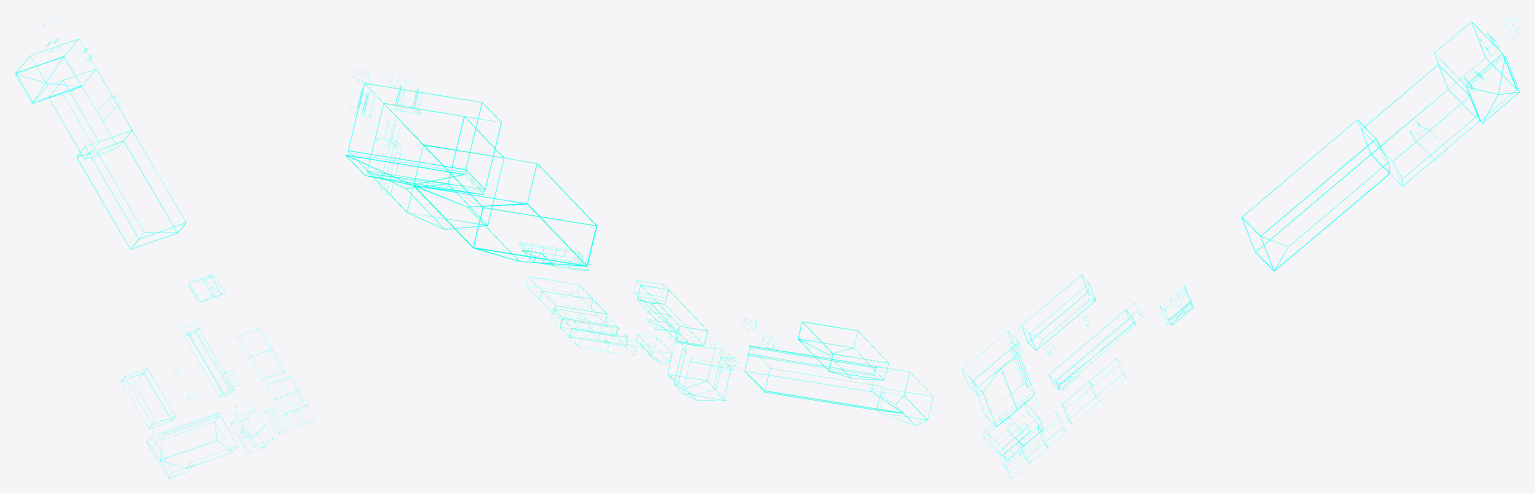
The picture shows the model from 3 angles, left to right: view 1: azimuth 30°, elevation 25°; view 2: azimuth 150°, elevation 25°; view 3: azimuth 270°, elevation 25°; orthographic projection. The views are drawn at different scales.
Visible parts, largest first — view 1: SketchUp.025; view 2: SketchUp.025; view 3: SketchUp.025.
Boxes of the visible parts, x1,y1,x2,y2 form: SketchUp.025: [15, 16, 314, 478]; SketchUp.025: [345, 67, 933, 425]; SketchUp.025: [962, 19, 1519, 478].
Bounding box in the file's own units: 5.47 × 9.57 × 11.55.
